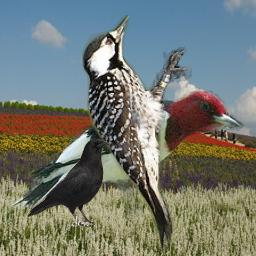Crow: (26, 137, 110, 228)
Woodpecker: (4, 80, 251, 224), (82, 15, 192, 253)
